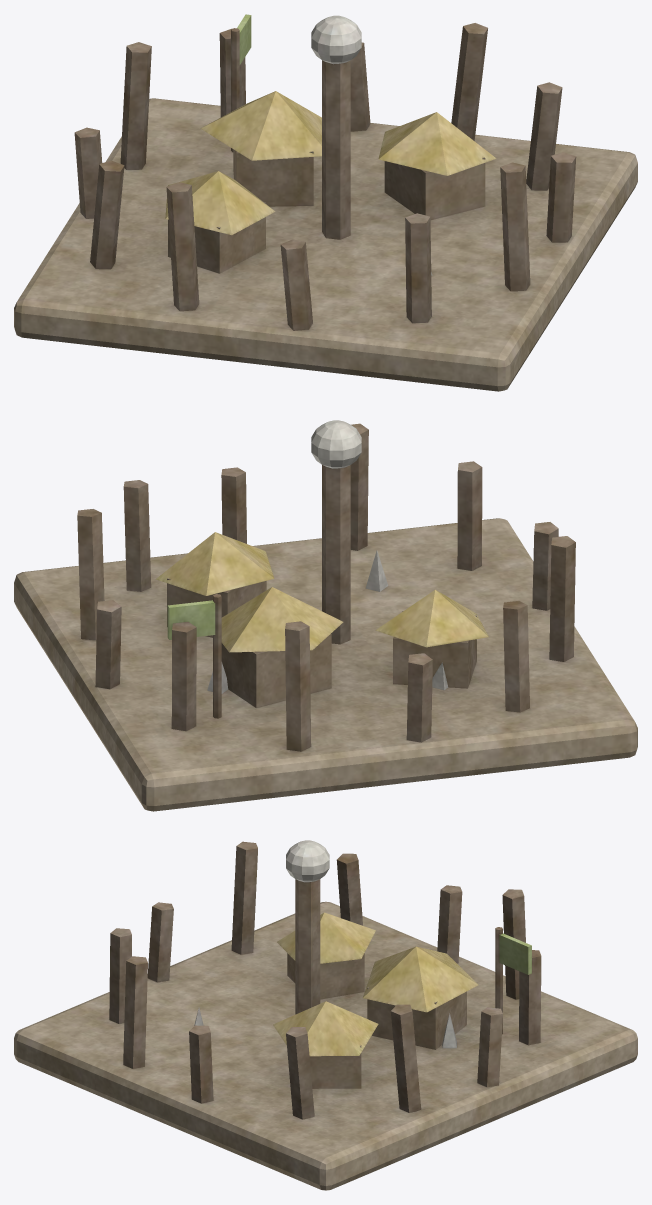
File: capital_gryk.glb
3 renders of one model, top to bottom at view 1: azimuth 30°, elevation 25°; view 2: azimuth 150°, elevation 25°; view 3: azimuth 270°, elevation 25°, orthographic. The views are drawn at different scales.
Visible parts, largest first — view 1: dilek; view 2: dilek; view 3: dilek.
Part boxes in pixels (bbox=[...]): dilek: bbox=[14, 14, 637, 391]; dilek: bbox=[14, 420, 637, 811]; dilek: bbox=[14, 840, 637, 1190].
Size of the model in its own units: 2.42 by 0.941 by 2.42.
Materials: 1 (1 with a texture image).
